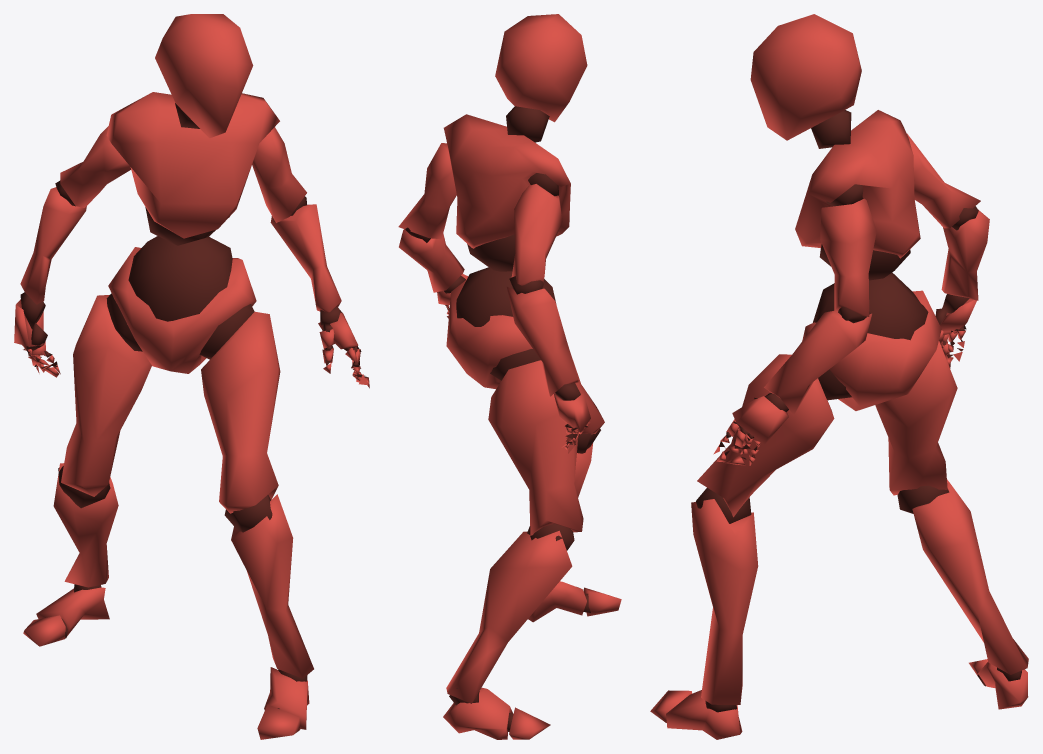
3 views of the same model, side by side, from view 1: azimuth 30°, elevation 25°; view 2: azimuth 150°, elevation 25°; view 3: azimuth 270°, elevation 25° (orthographic). The views are drawn at different scales.
Visible parts, largest first — view 1: Beta_Surface; view 2: Beta_Surface; view 3: Beta_Surface.
Part boxes in pixels (x1,y1,x2,y2): Beta_Surface: (14,14,369,739); Beta_Surface: (398,14,621,739); Beta_Surface: (650,14,1028,739).
Size of the model in its own units: 5.56 by 14.58 by 7.2.
